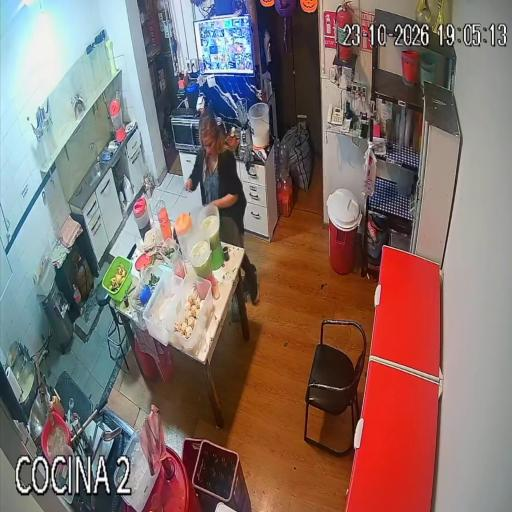Balde: (248, 102, 270, 148)
Envase Llajua: (52, 395, 63, 417)
Jarra1: (133, 197, 150, 238)
Jarra2: (175, 213, 193, 258)
Jarra3: (198, 206, 223, 269)
Jarra4: (190, 240, 211, 279)
Licuadora: (216, 117, 225, 135)
Licuadora2: (237, 98, 251, 149)
Microondas: (170, 115, 200, 152)
Persona2: (185, 118, 246, 246), (244, 256, 258, 303)
Taper: (103, 256, 132, 302)
Taper2: (128, 265, 168, 331)
Taper3: (143, 272, 183, 346)
Taper4: (163, 273, 213, 355)
Taper5: (115, 430, 159, 512)
